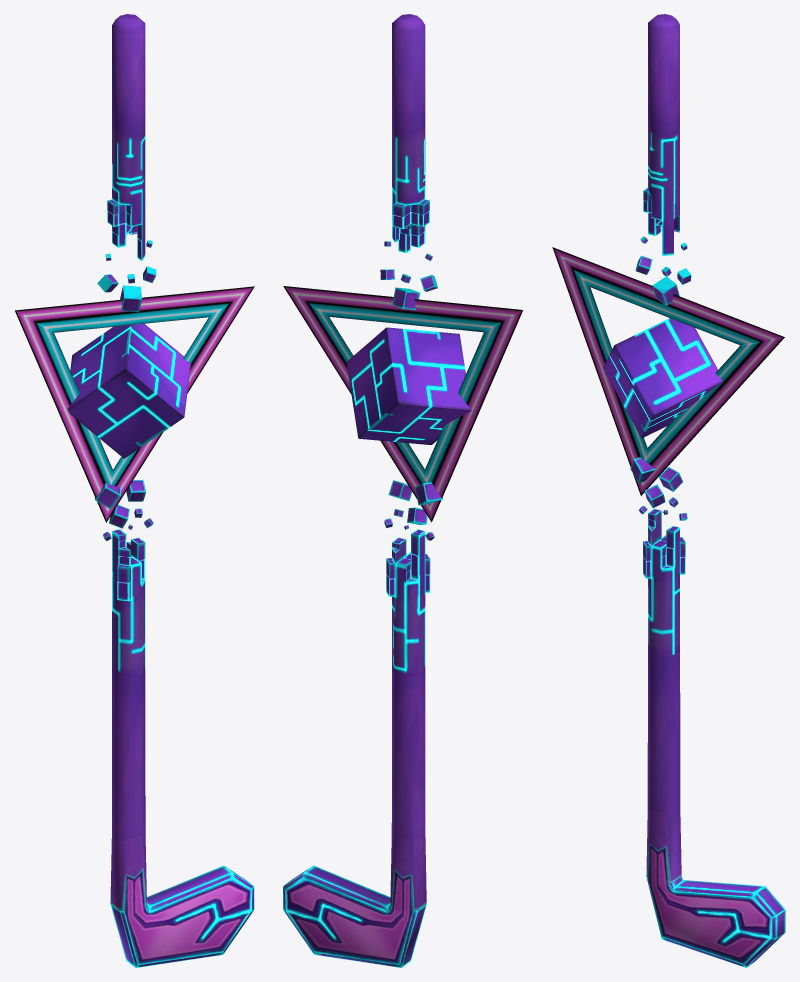
3 renders of one model, left to right at view 1: azimuth 30°, elevation 25°; view 2: azimuth 150°, elevation 25°; view 3: azimuth 330°, elevation 25°, orthographic. The views are drawn at different scales.
Visible parts, largest first — view 1: golfMegaCube; view 2: golfMegaCube; view 3: golfMegaCube.
Boxes of the visible parts, x1,y1,x2,y2 form: golfMegaCube: [15, 14, 254, 967]; golfMegaCube: [283, 14, 522, 967]; golfMegaCube: [552, 14, 785, 967].
Size of the model in its own units: 0.3366 by 1.28 by 0.1623.
Materials: 1 (1 with a texture image).
